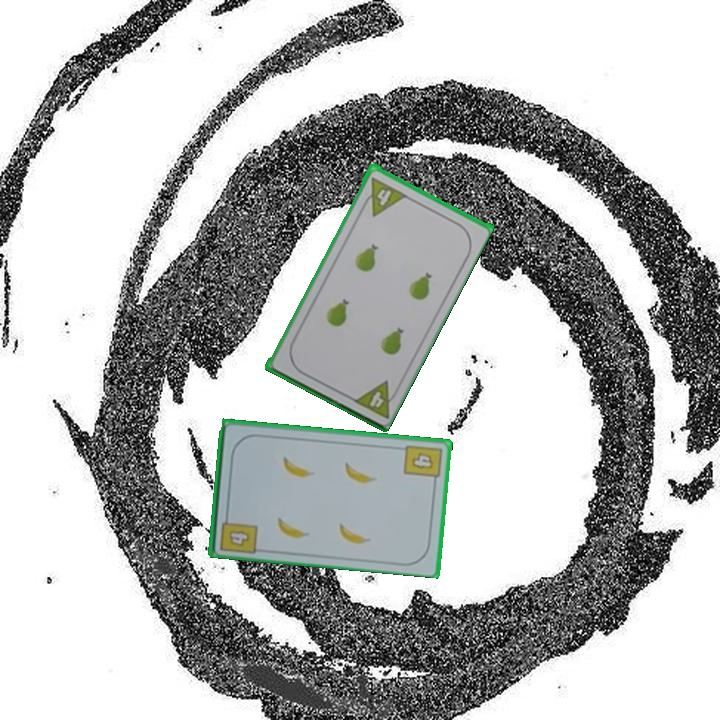4b: (216, 509, 260, 556), (400, 441, 444, 487)
4p: (348, 376, 403, 421), (357, 173, 408, 218)
